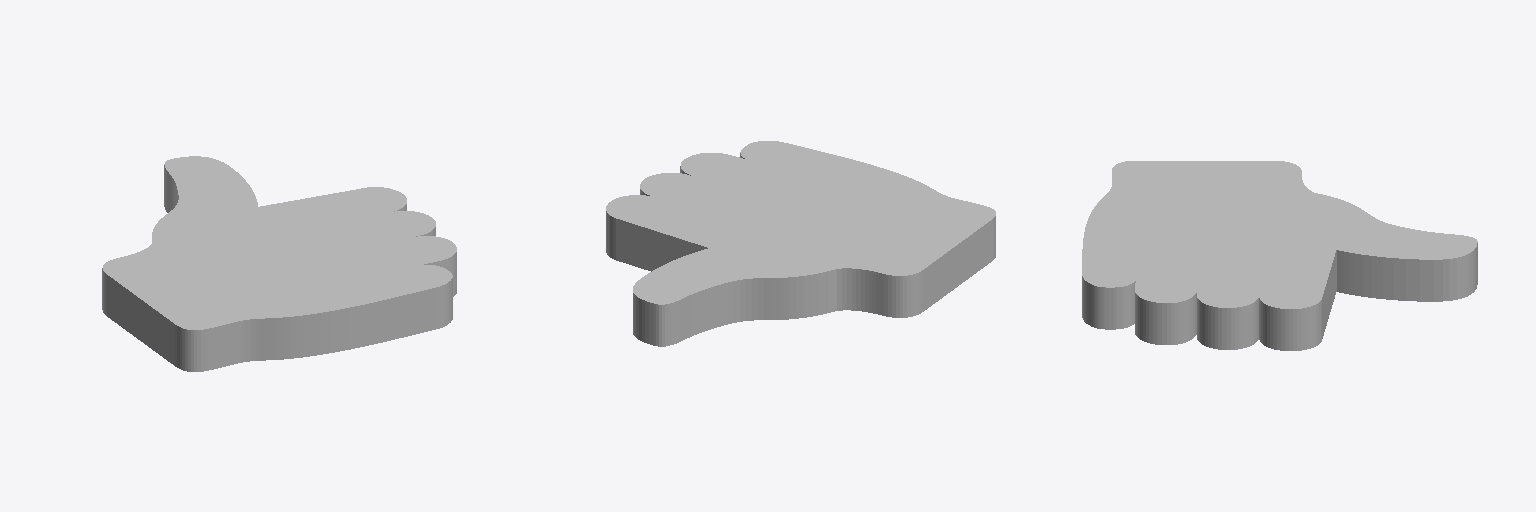
The model's file is thumbsup.obj.
3 renders of one model, left to right at view 1: azimuth 30°, elevation 25°; view 2: azimuth 150°, elevation 25°; view 3: azimuth 270°, elevation 25°, orthographic.
Visible parts, largest first — view 1: Curve; view 2: Curve; view 3: Curve.
Part boxes in pixels (x1,y1,x2,y2): Curve: (102,156,456,371); Curve: (606,141,995,346); Curve: (1082,161,1477,350).
Size of the model in its own units: 3.19 by 0.4207 by 3.59.